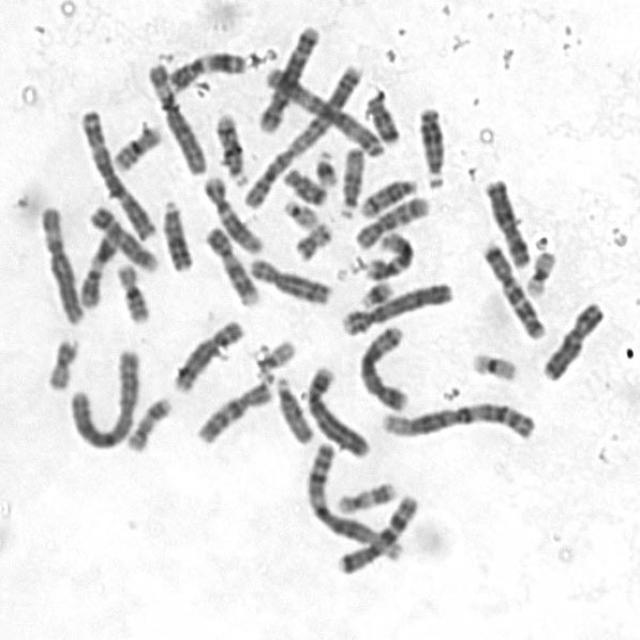A1: (300, 434, 408, 562), (374, 394, 539, 442)
A2: (238, 57, 366, 209), (62, 340, 143, 451)
A3: (259, 59, 387, 160), (73, 99, 159, 240)
B4: (334, 273, 456, 337), (299, 358, 372, 459)
B5: (252, 17, 323, 134), (352, 318, 412, 412)
C10: (190, 372, 276, 446), (347, 188, 432, 250)
C11: (162, 44, 249, 92), (74, 225, 121, 308)
C12: (197, 169, 265, 255), (359, 224, 415, 282)
C6: (142, 56, 209, 175), (32, 198, 87, 326)
C7: (331, 486, 420, 576), (476, 234, 548, 340)
C8: (167, 312, 247, 394), (242, 248, 336, 306)
C9: (82, 198, 161, 273), (198, 218, 262, 308)
D13: (412, 98, 448, 189), (156, 192, 195, 274)
D14: (208, 105, 250, 187), (355, 170, 420, 218)
D15: (270, 369, 316, 445), (332, 139, 366, 220)
E16: (107, 116, 165, 172), (110, 255, 152, 325)
E17: (120, 388, 174, 454), (330, 472, 399, 516)
E18: (358, 85, 402, 146), (278, 160, 329, 208)
F19: (519, 242, 559, 298), (464, 344, 521, 383)
F20: (41, 330, 82, 392), (288, 214, 334, 262)
G21: (354, 273, 396, 309), (310, 141, 341, 188)
G22: (250, 332, 298, 379), (278, 191, 322, 230)
X: (536, 294, 608, 382), (477, 171, 534, 270)
